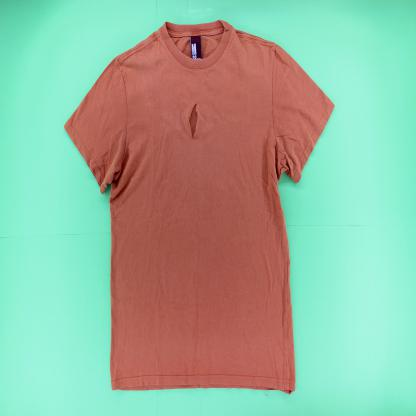hole: (188, 103, 199, 142)
